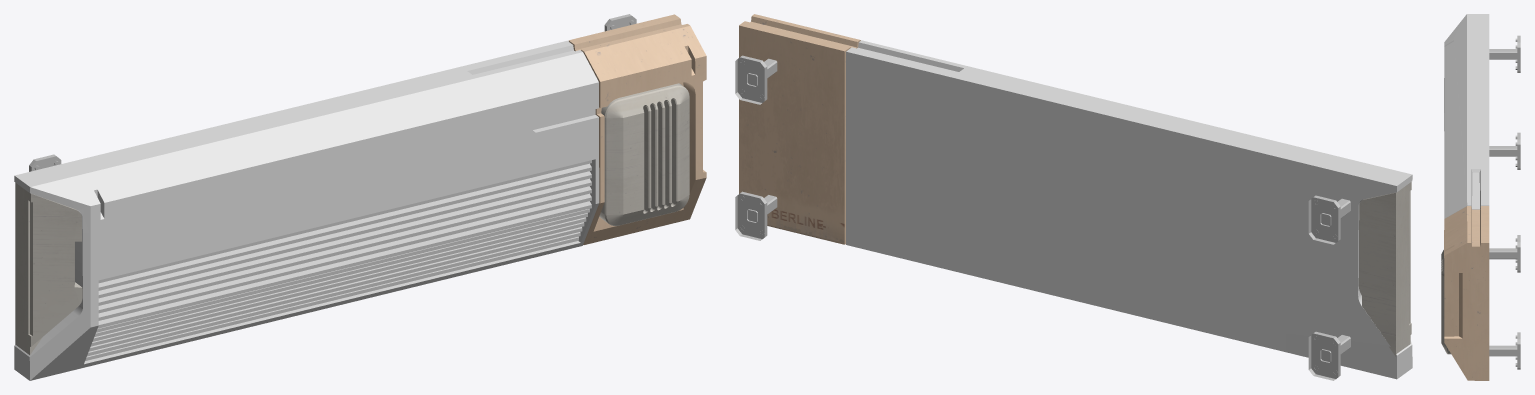
File: KB3D_CBP_UtilityDevice_G.fbx
3 renders of one model, left to right at view 1: azimuth 30°, elevation 25°; view 2: azimuth 150°, elevation 25°; view 3: azimuth 270°, elevation 25°, orthographic. The views are drawn at different scales.
Parts seen in each view (by area): view 1: KB3D_CBP_UtilityDevice_G_Main; view 2: KB3D_CBP_UtilityDevice_G_Main; view 3: KB3D_CBP_UtilityDevice_G_Main.
Part boxes in pixels (<box>): KB3D_CBP_UtilityDevice_G_Main: <box>14,14,706,380</box>; KB3D_CBP_UtilityDevice_G_Main: <box>735,14,1412,380</box>; KB3D_CBP_UtilityDevice_G_Main: <box>1441,14,1520,380</box>.
Size of the model in its own units: 290 by 81.46 by 42.55.
